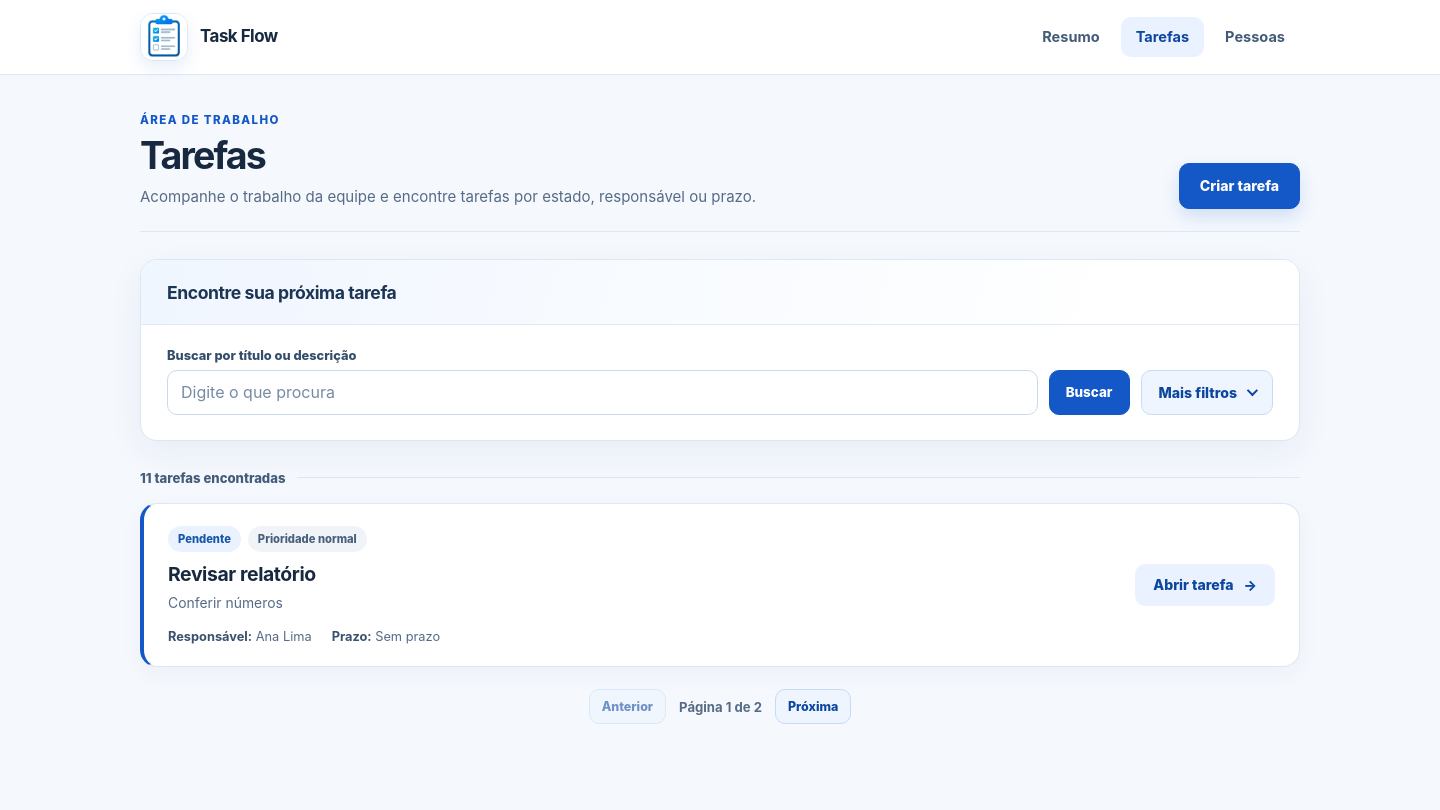
filtros recolhíveis, paginação e voltar do navegador restauram a URL
Click the button "Mais filtros" at (1207, 392), box [1140,370,1273,415]
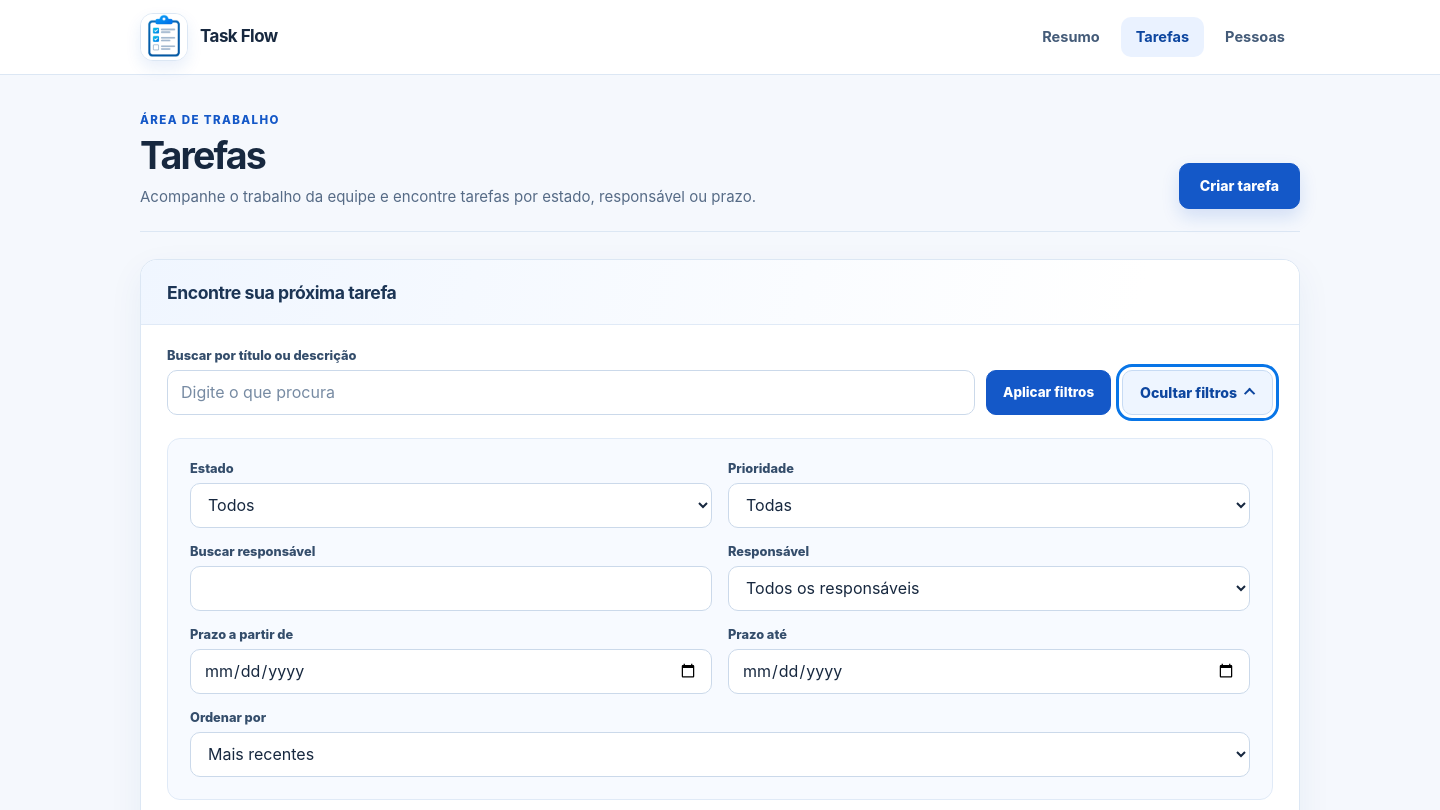
Type "relatório" into the search field labelled "Buscar por título ou descrição" at (571, 392), box [167,370,975,415]
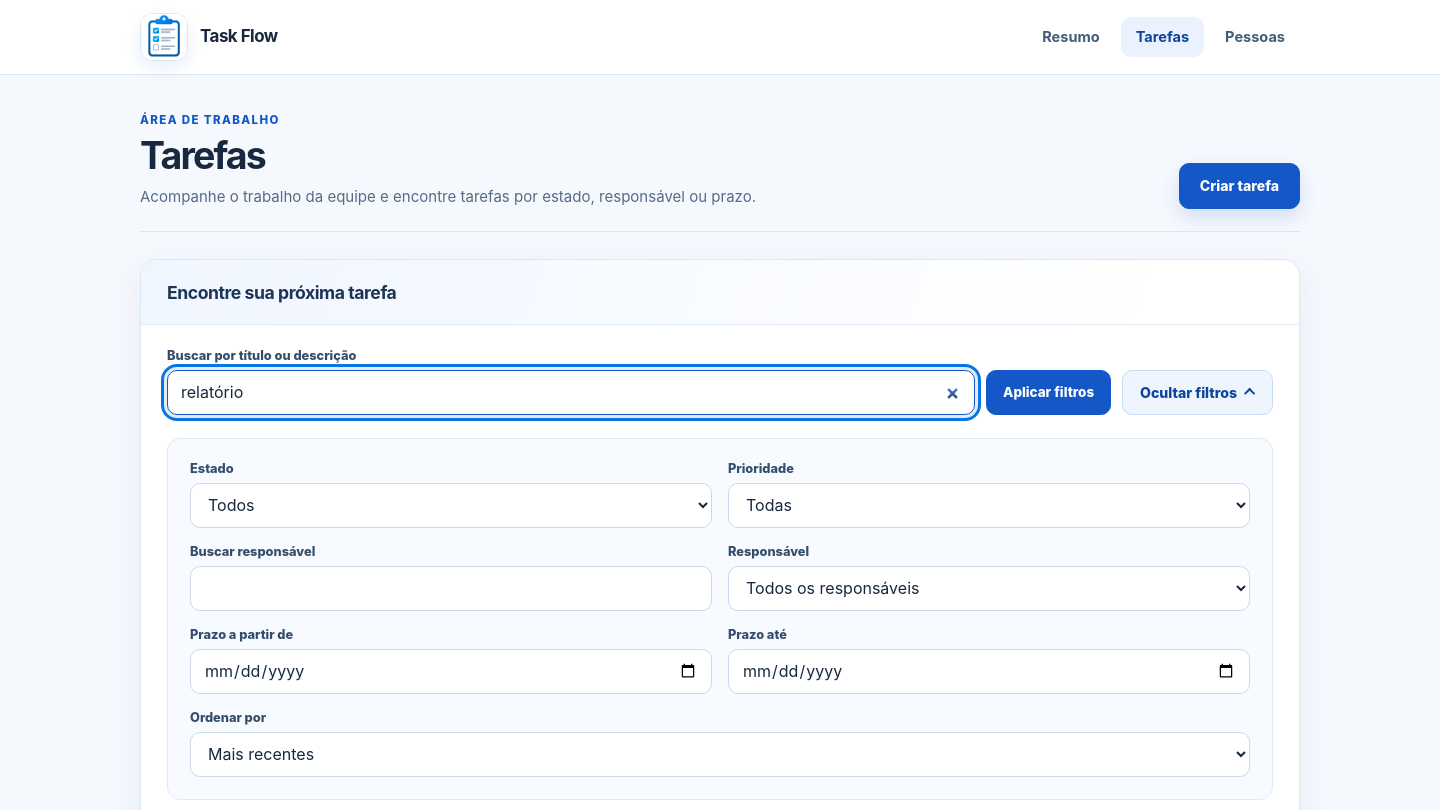
Select "Pendente" in the dropdown labelled "Estado" at (451, 505), box [190,483,712,528]
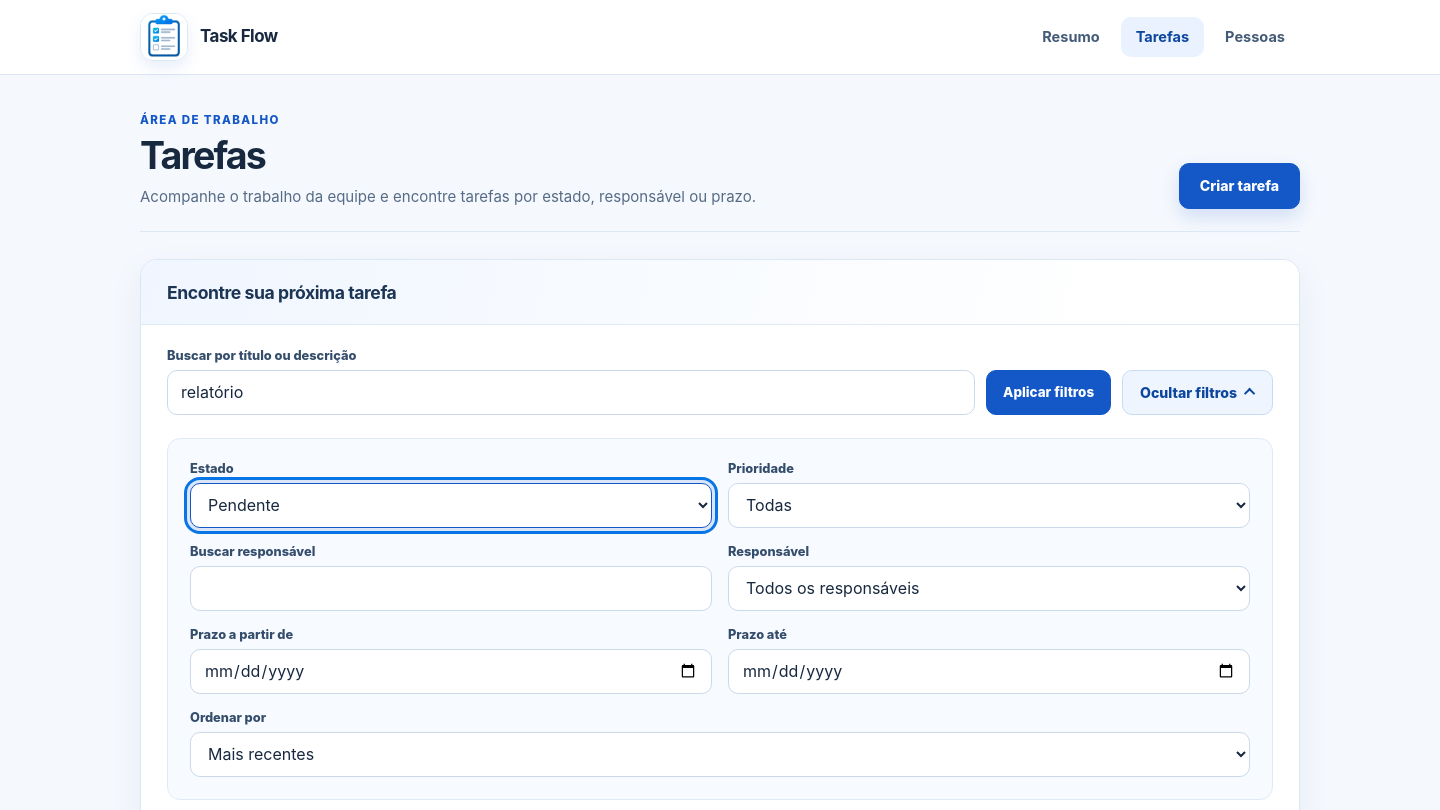
Click the button "Aplicar filtros" at (1048, 392), box [986,370,1111,415]
(page scrolled)
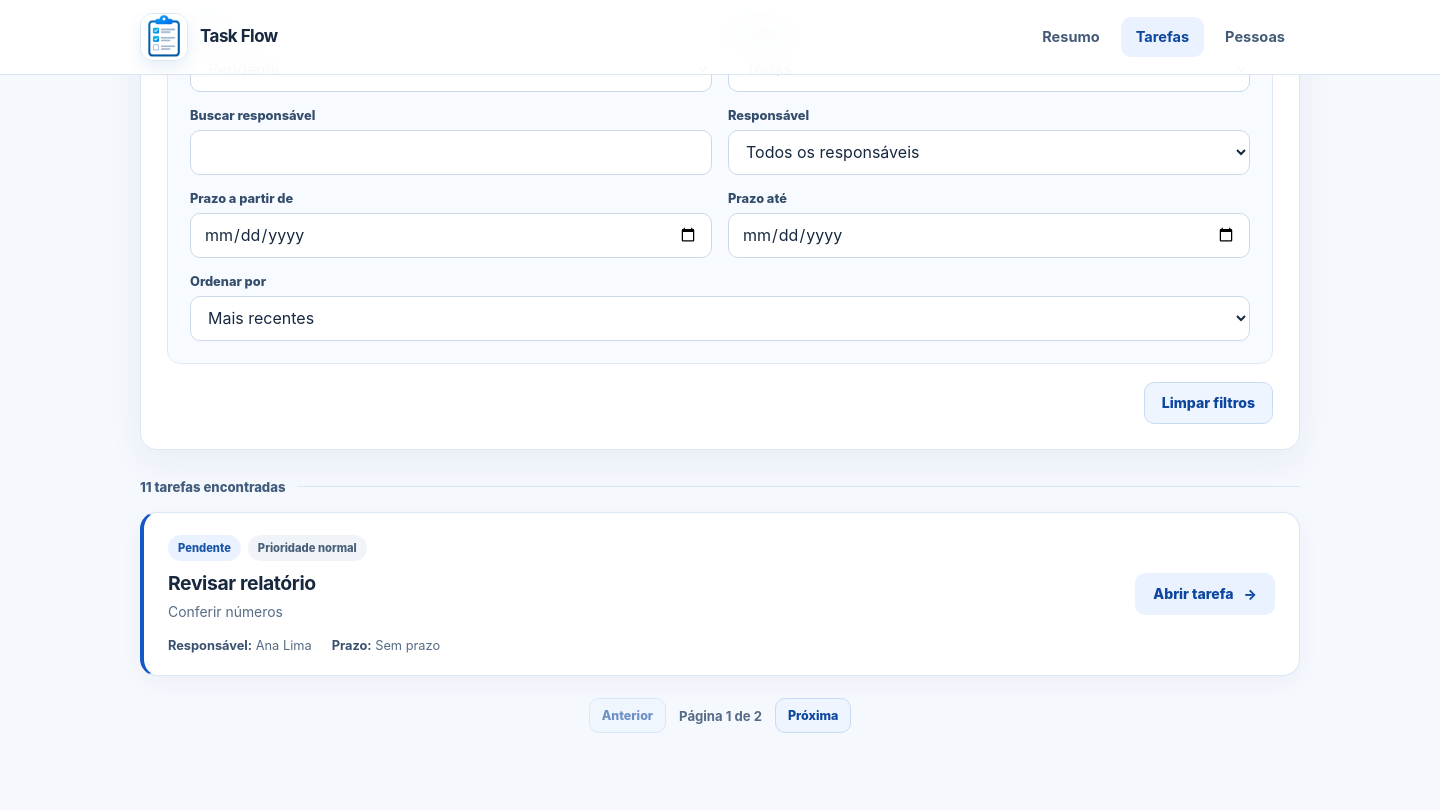
Click the button "Próxima" at (813, 716), box [775,698,851,733]
(page scrolled)
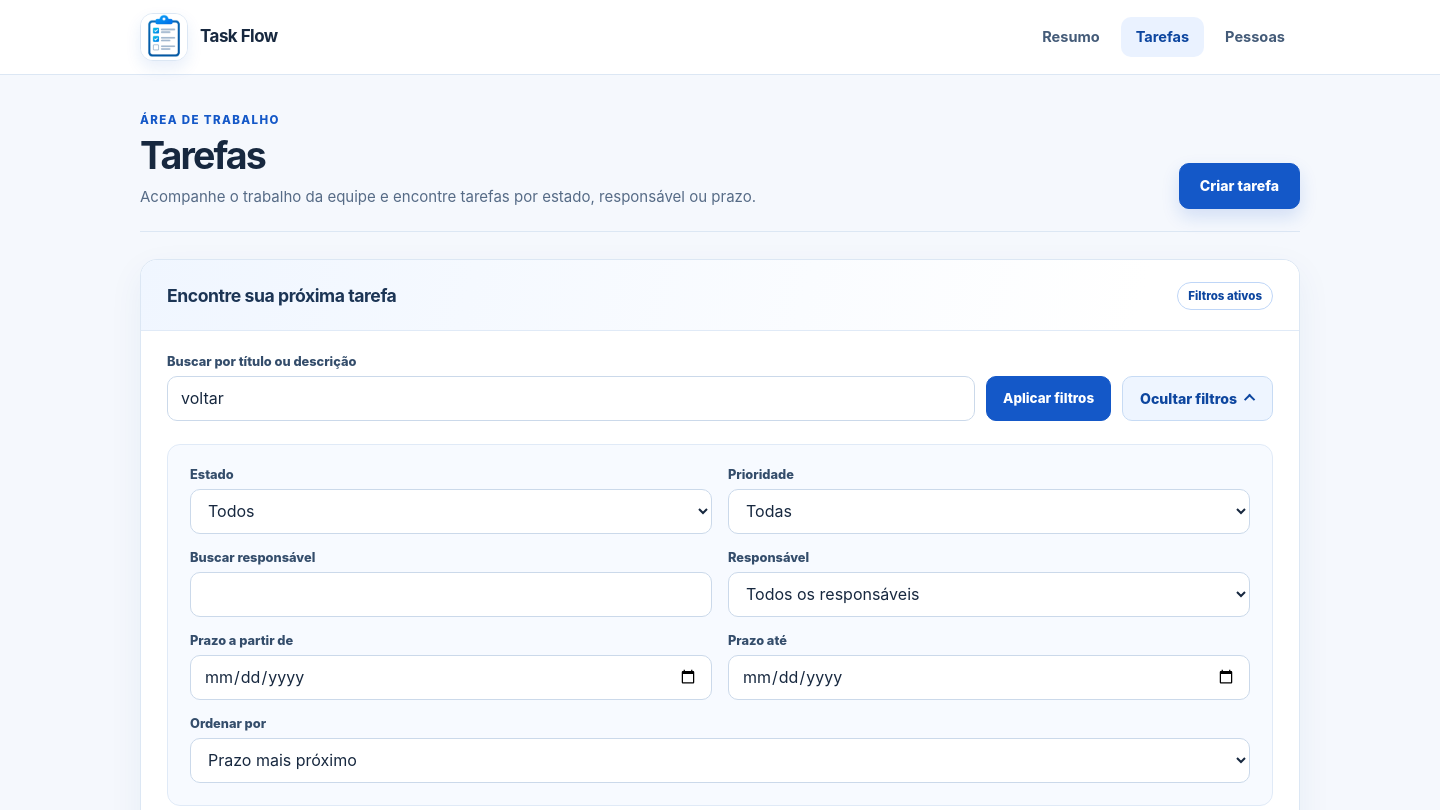
Check: the search field labelled "Buscar por título ou descrição" holds "voltar", box [167,376,975,421]
